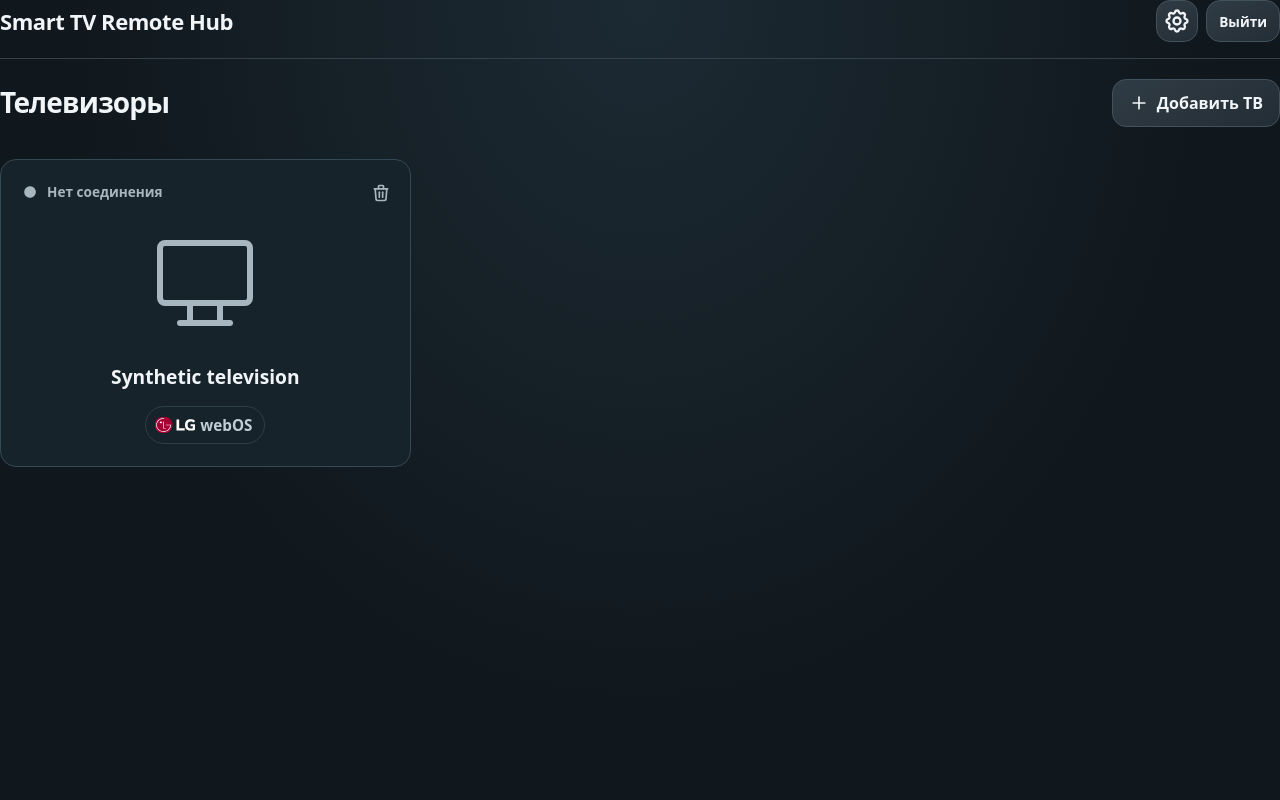
Scenario: trash requires confirmation, cancellation does not open remote or delete, confirmed deletion removes the card
This screenshot has width=1280, height=800.
Click the button named "Удалить телевизор Synthetic television" at point(381, 193), box left=363, top=171, right=399, bottom=215
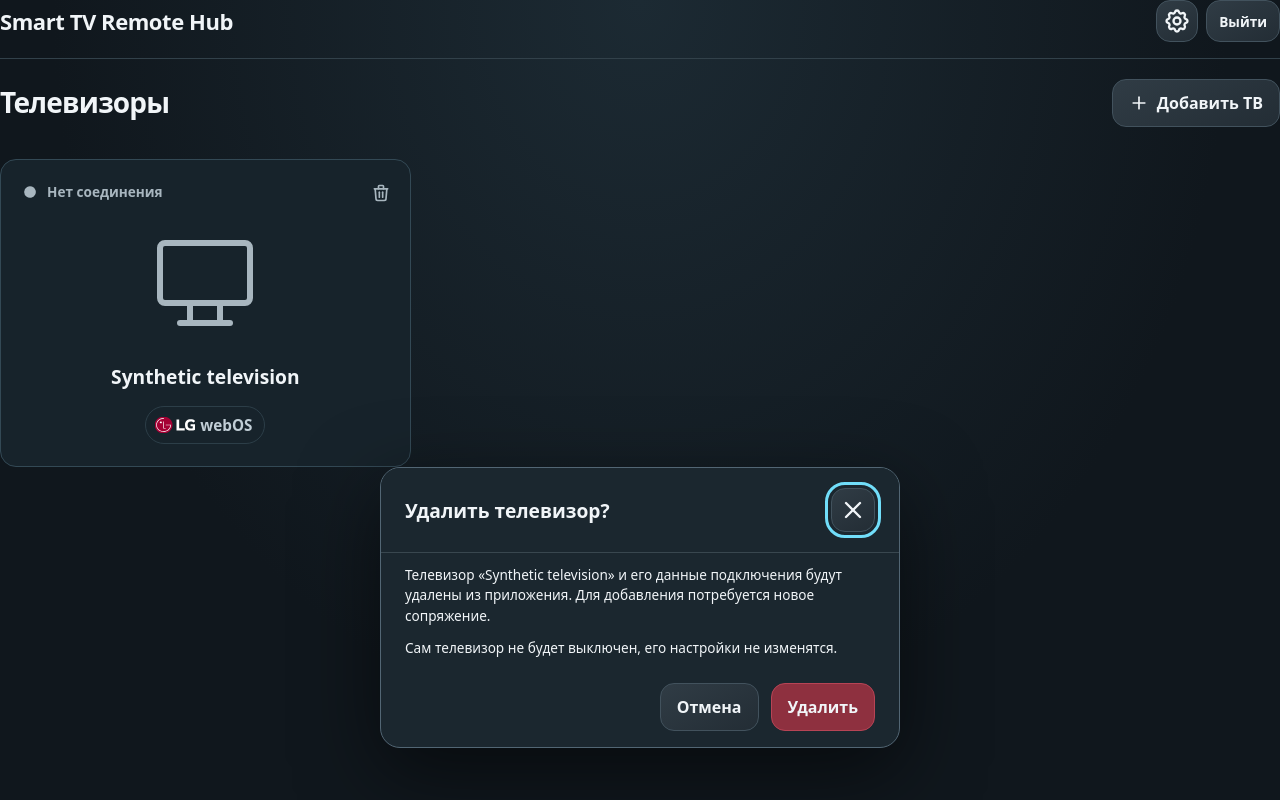
Click the button "Отмена" at point(709, 707), box left=660, top=683, right=758, bottom=731
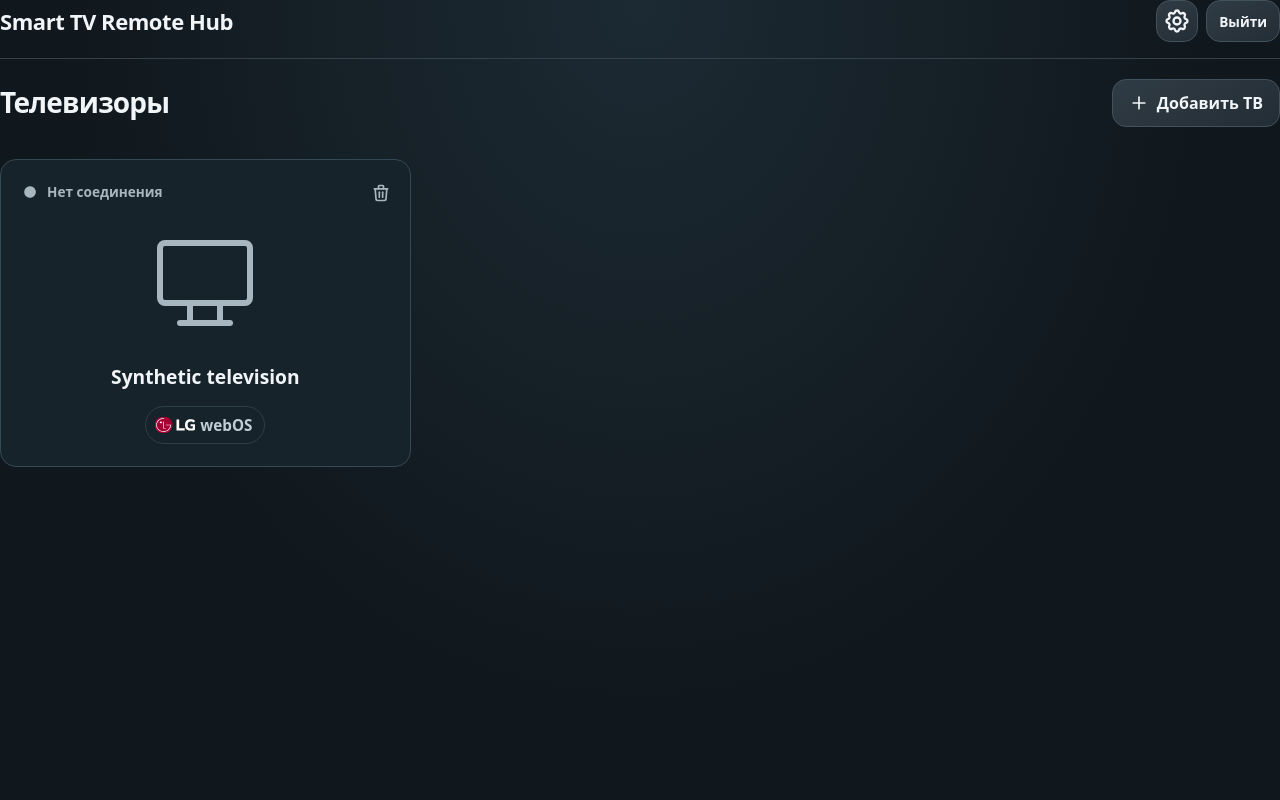
Click the button named "Удалить телевизор Synthetic television" at point(381, 193), box left=363, top=171, right=399, bottom=215
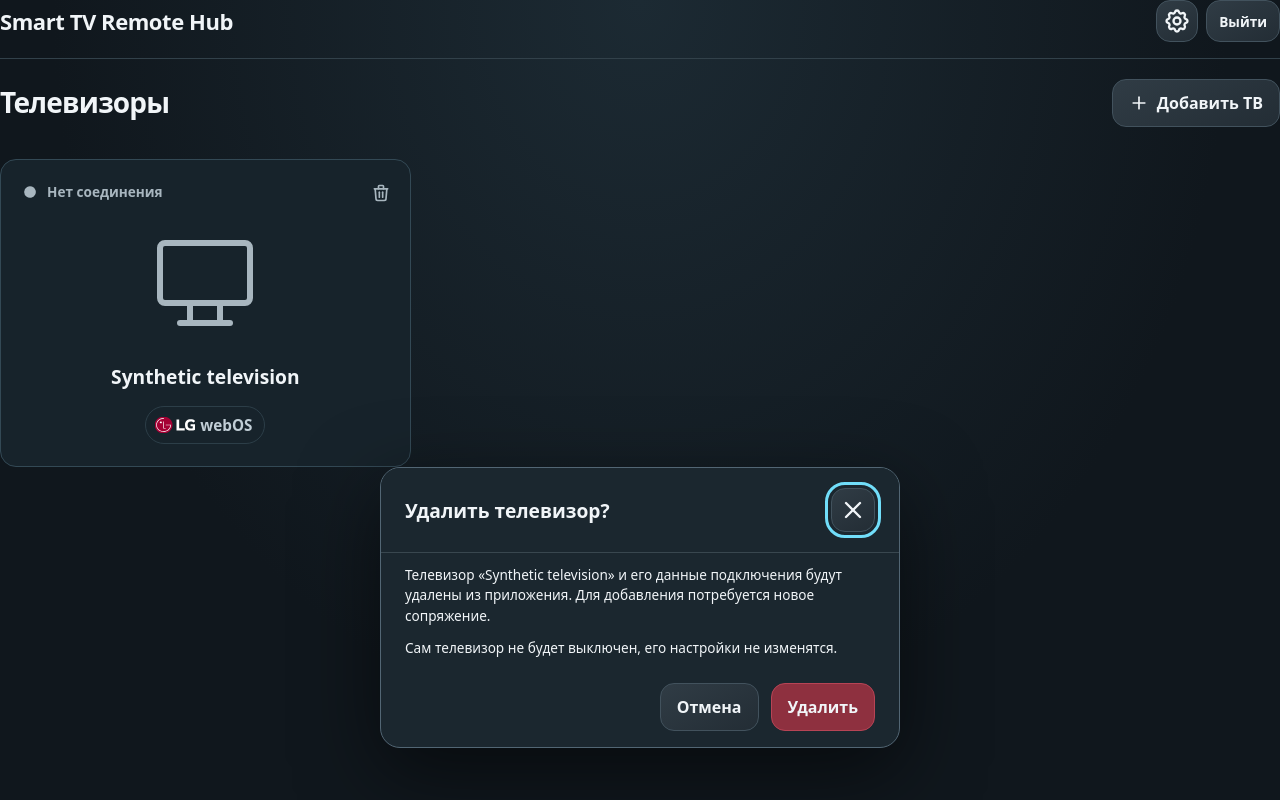
Click the button "Удалить" at point(823, 707), box left=770, top=683, right=875, bottom=731
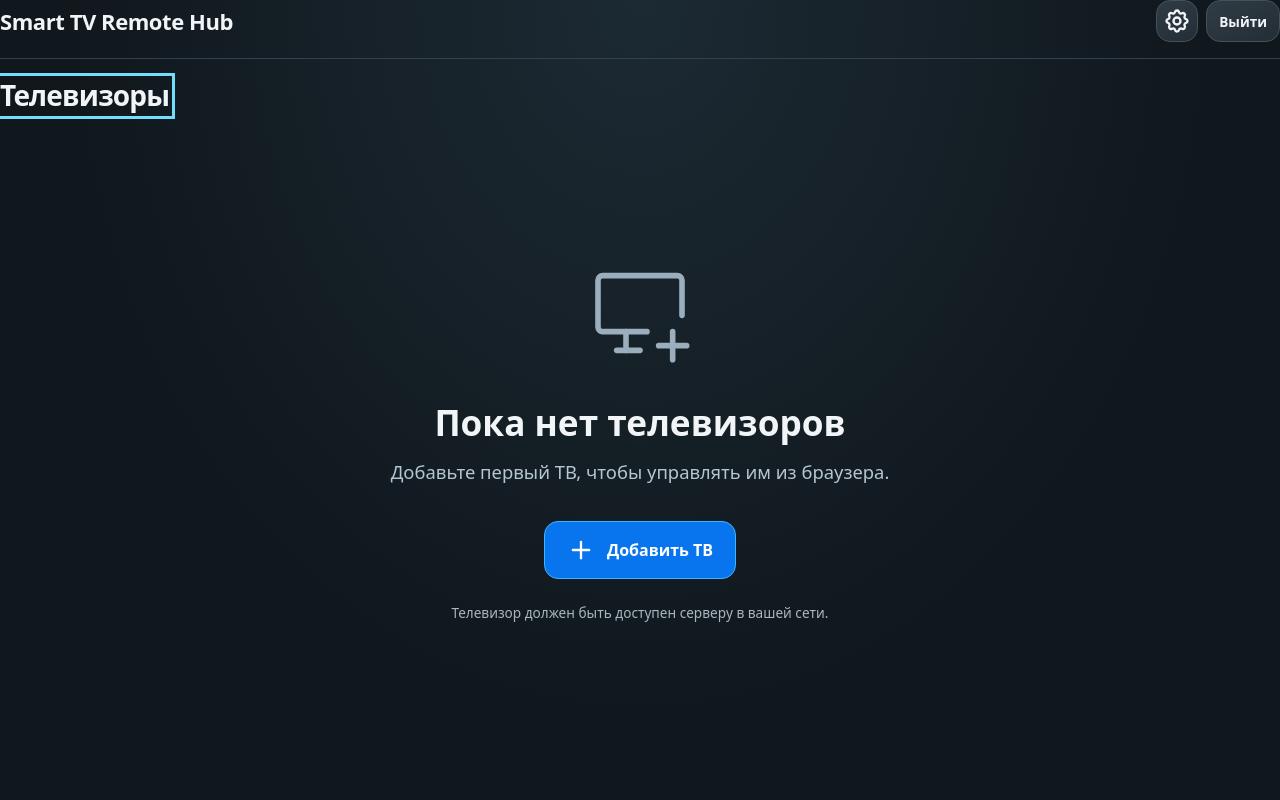
Result: the heading "Пока нет телевизоров" is shown at left=434, top=398, right=846, bottom=446
